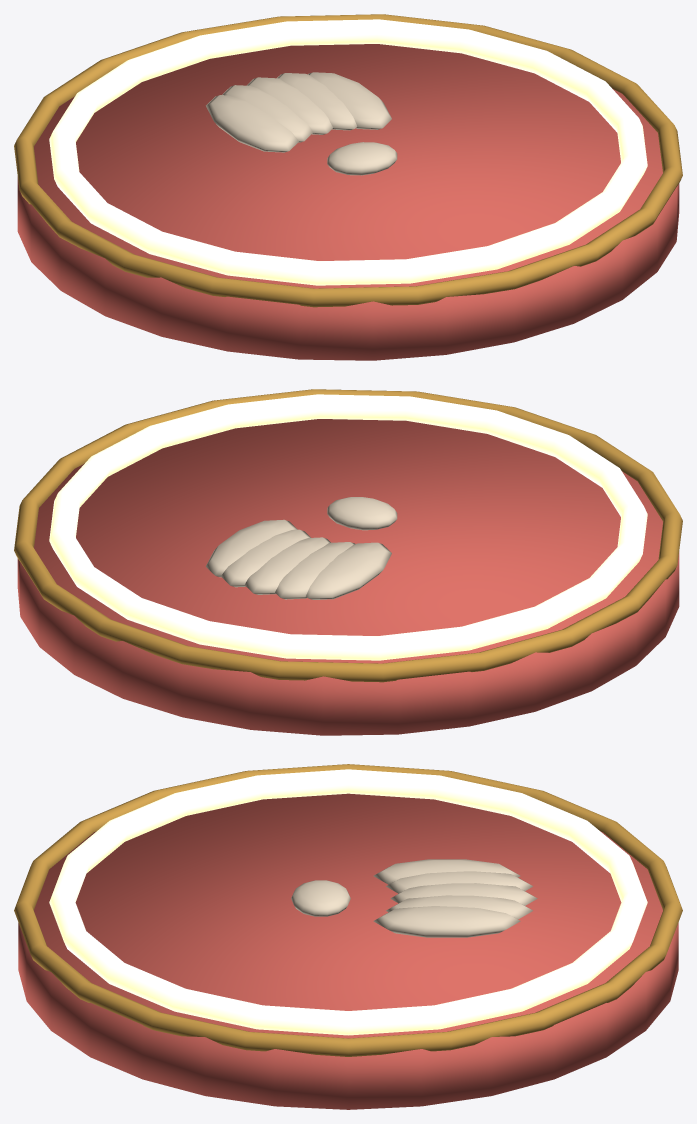
Rendered from opera_ballerina_tile_0.glb.
3 views of the same model, one above another, from view 1: azimuth 30°, elevation 25°; view 2: azimuth 150°, elevation 25°; view 3: azimuth 270°, elevation 25° (orthographic).
Visible parts, largest first — view 1: VisualMesh, GlowRing; view 2: VisualMesh, GlowRing; view 3: VisualMesh, GlowRing.
Part boxes in pixels (x1=…): VisualMesh: x1=14, y1=14, x2=682, y2=360; GlowRing: x1=49, y1=19, x2=647, y2=285; VisualMesh: x1=14, y1=389, x2=682, y2=735; GlowRing: x1=49, y1=394, x2=647, y2=660; VisualMesh: x1=14, y1=764, x2=682, y2=1109; GlowRing: x1=49, y1=769, x2=647, y2=1035.
Bounding box in the file's own units: 6.08 × 0.825 × 6.08.
